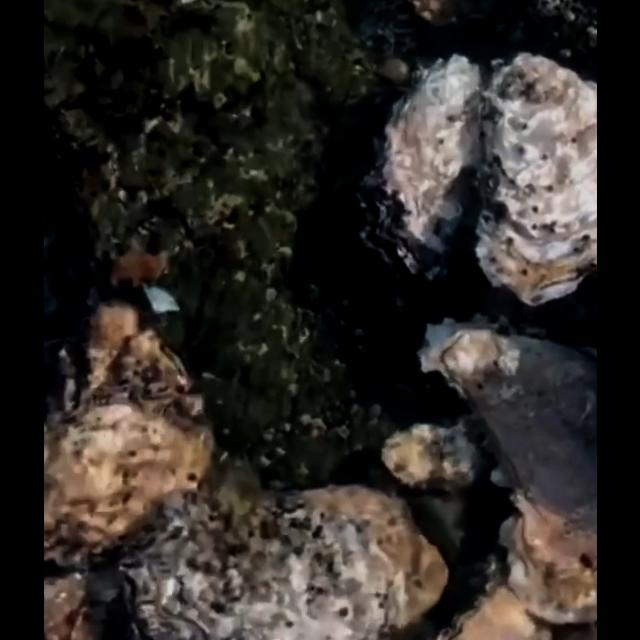Oyster-Closed: (43, 296, 227, 640), (418, 314, 596, 640), (117, 483, 448, 640), (474, 50, 596, 306), (432, 549, 554, 640), (380, 416, 486, 488)
Oyster-Open: (355, 50, 485, 284)
